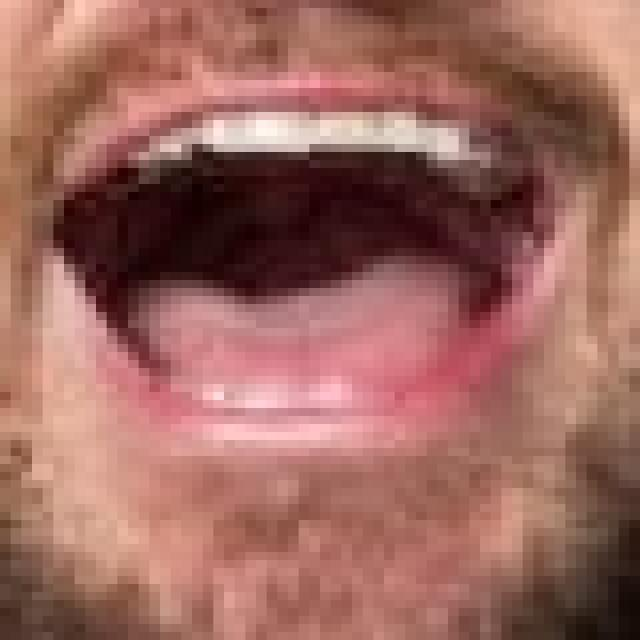open-mouth: (42, 72, 566, 448)
